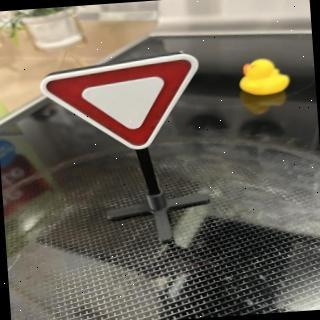duck_regular: (237, 56, 293, 99)
sign_yield: (39, 51, 206, 157)
